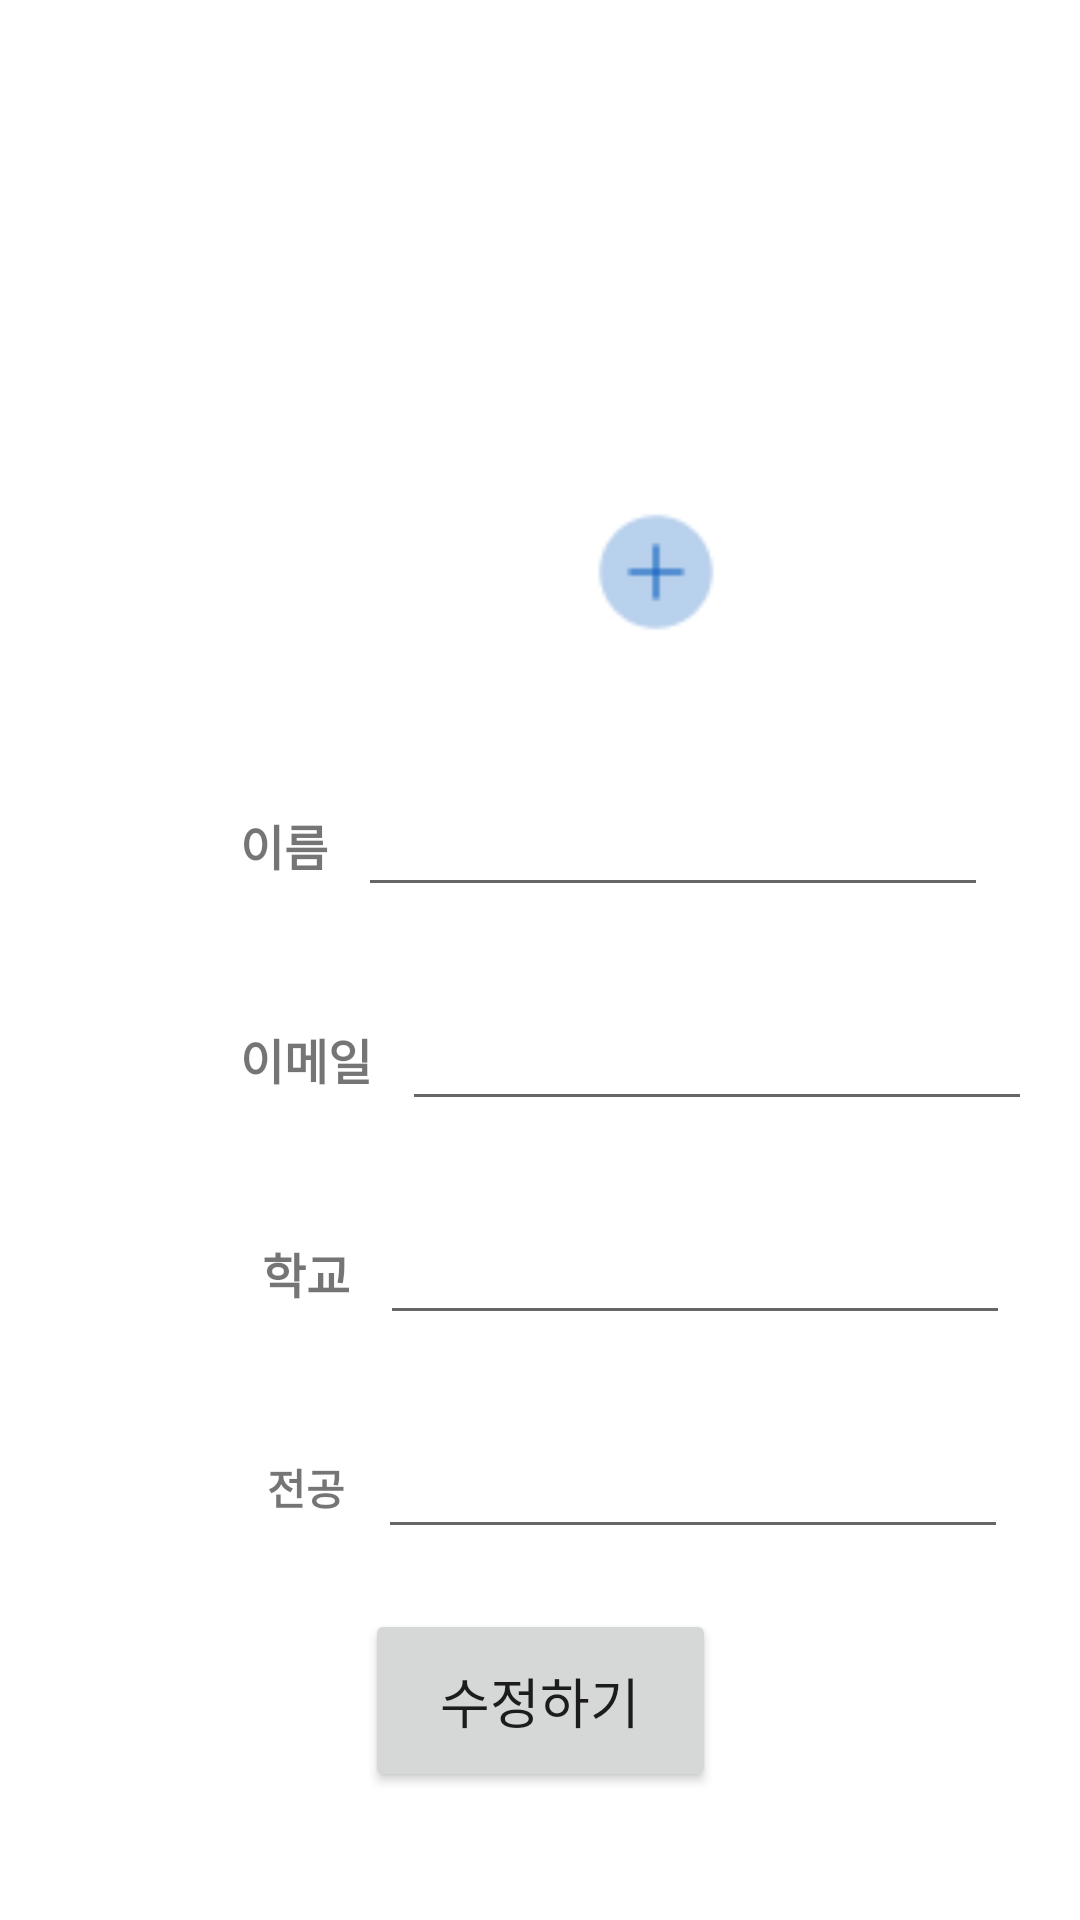

Screen size 1080 x 1920. Icon name, then its box in pixels as (x1, y1, x2, y2):
add: (599, 515, 713, 629)
